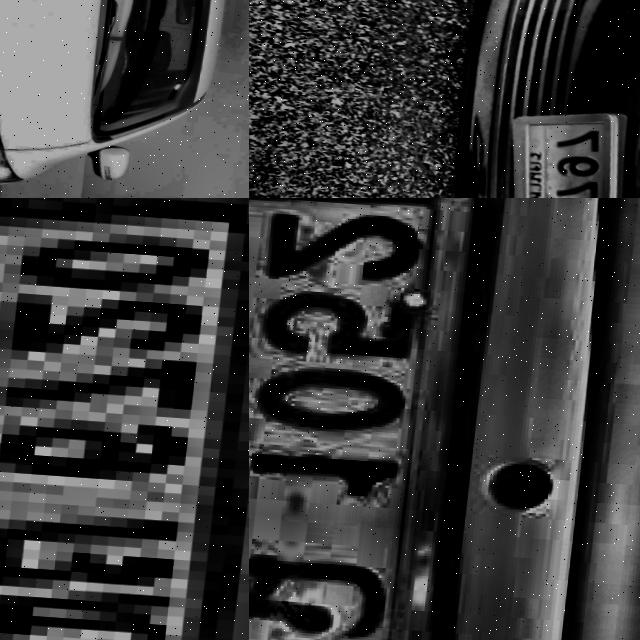license-plate: (249, 198, 507, 640), (0, 198, 249, 640), (487, 107, 640, 198)
